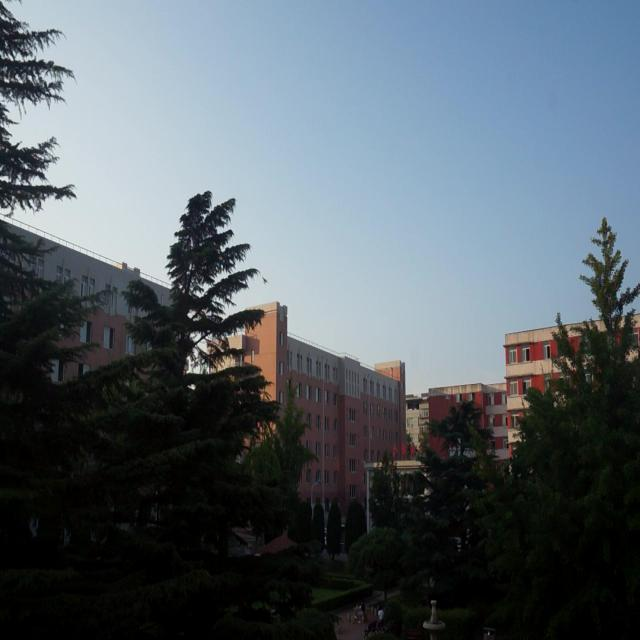drone: (260, 274, 268, 290)
